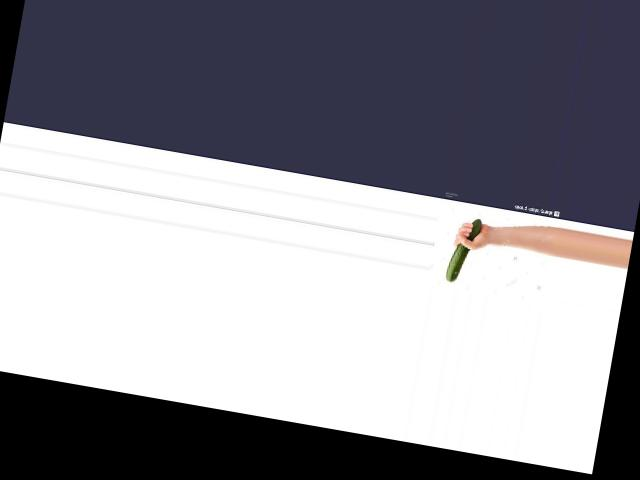cucumber: (444, 214, 481, 284)
